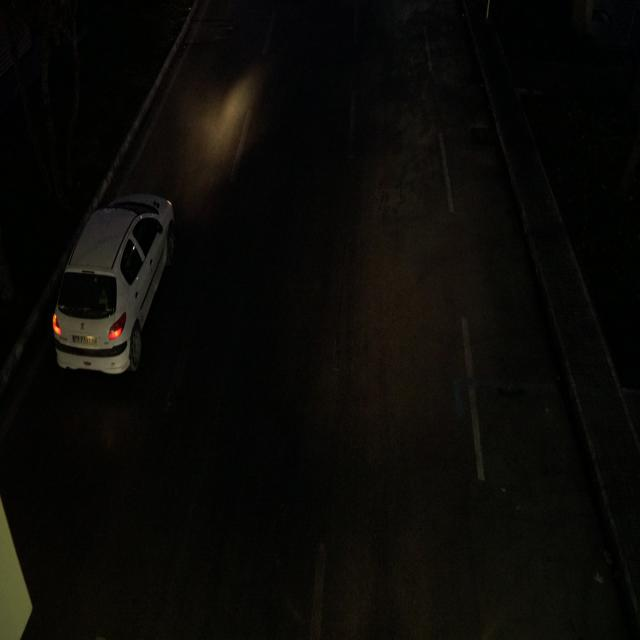car: (52, 190, 174, 379)
